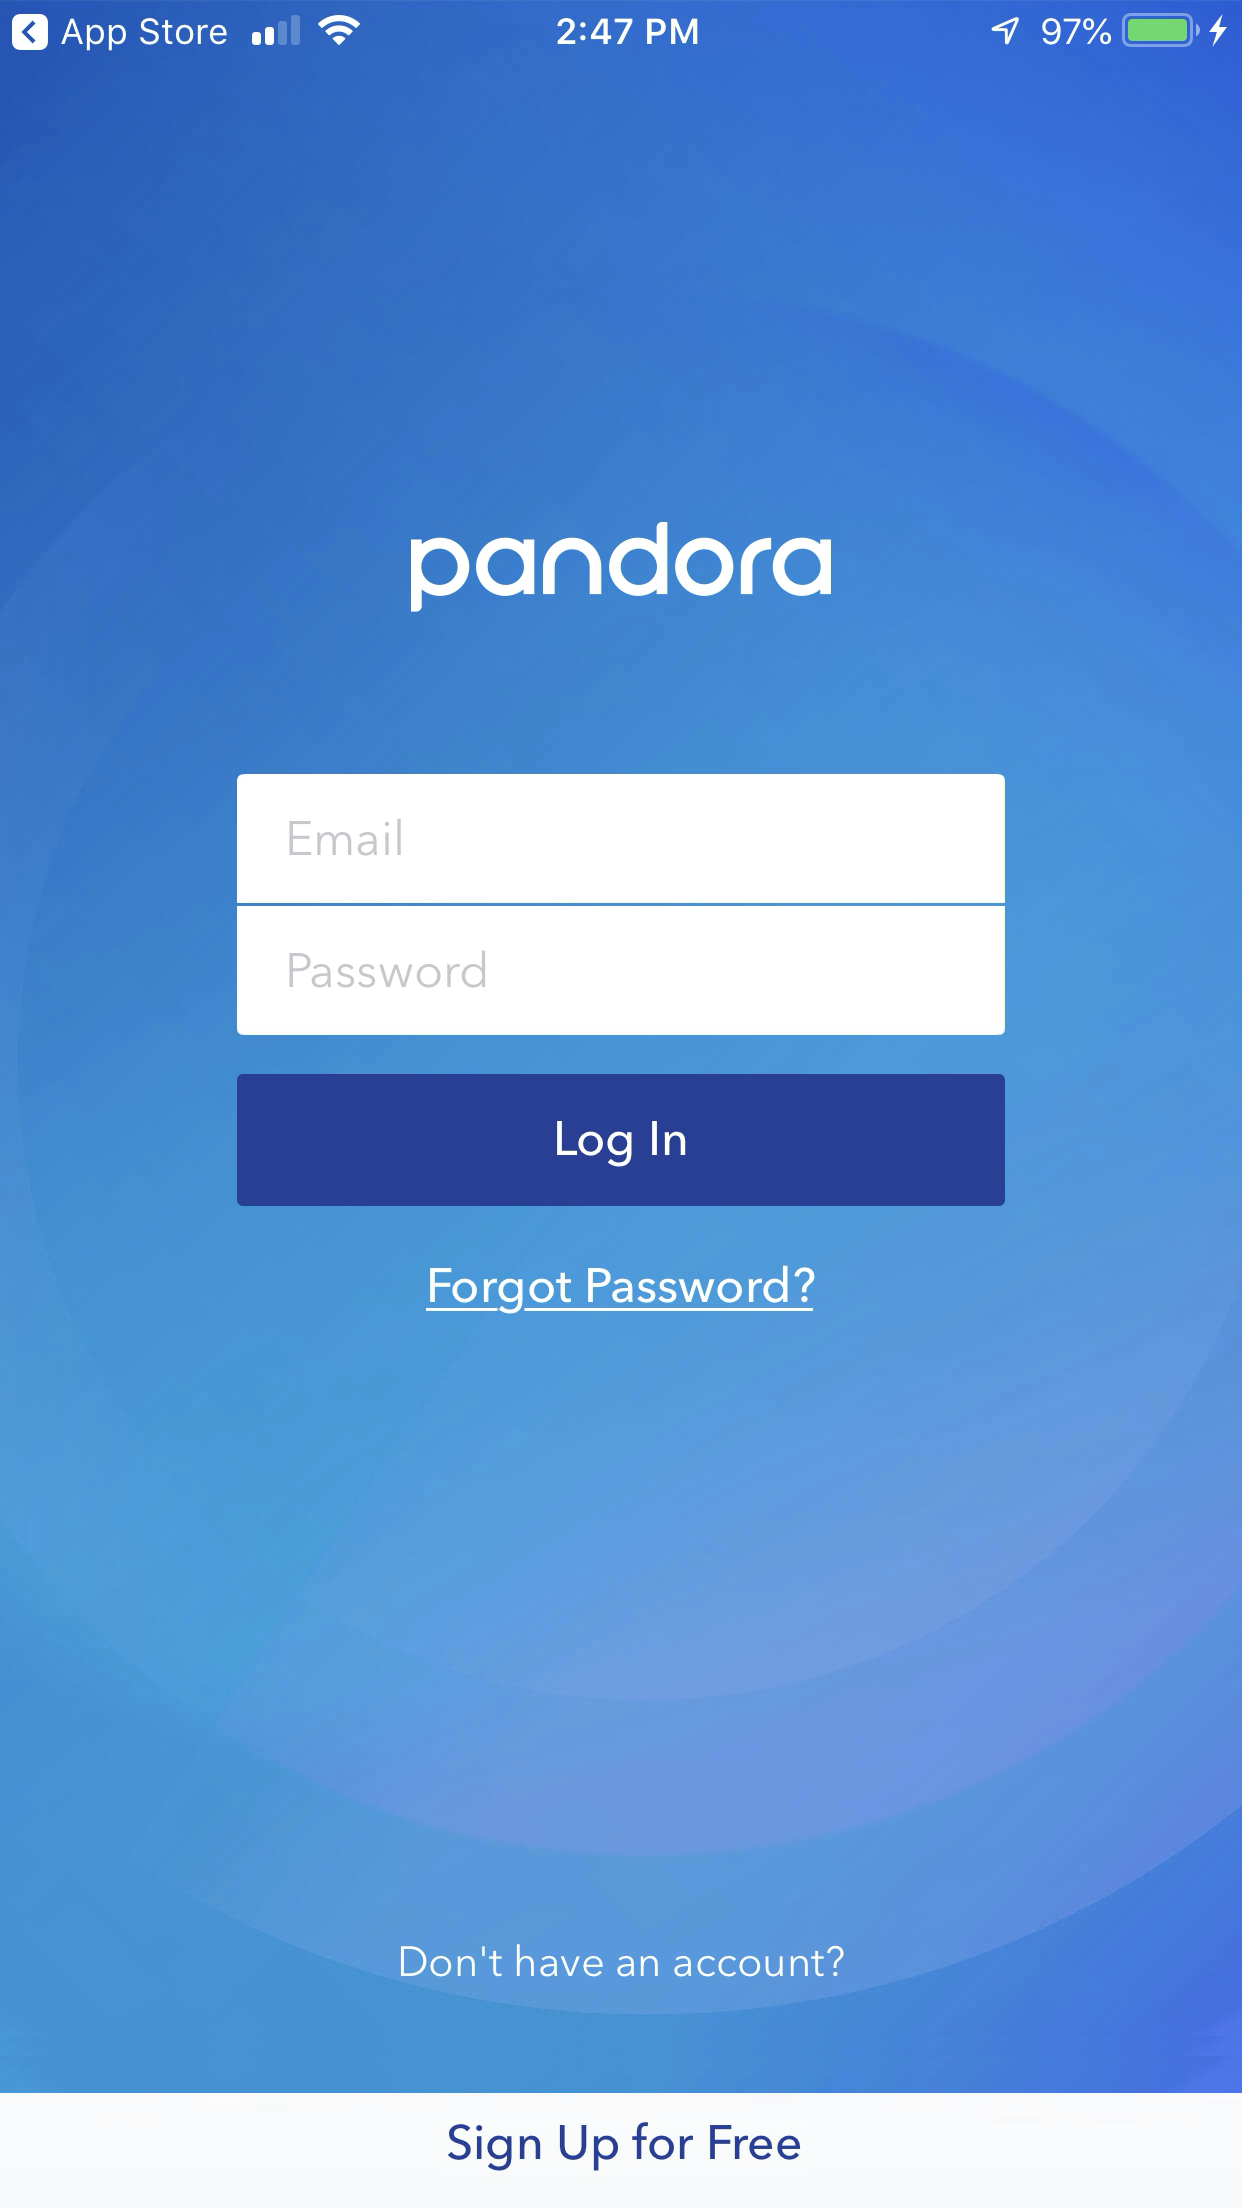BackgroundImage: (2, 2, 1242, 2093)
EditText: (237, 905, 1005, 1034), (237, 773, 1005, 902)
Text: (409, 522, 833, 613), (426, 1265, 814, 1313), (400, 1943, 845, 1977), (290, 949, 487, 989), (290, 817, 400, 855)
TextButton: (2, 2093, 1242, 2208), (237, 1074, 1005, 1206)
UpperTaskBar: (2, 2, 1242, 52)
